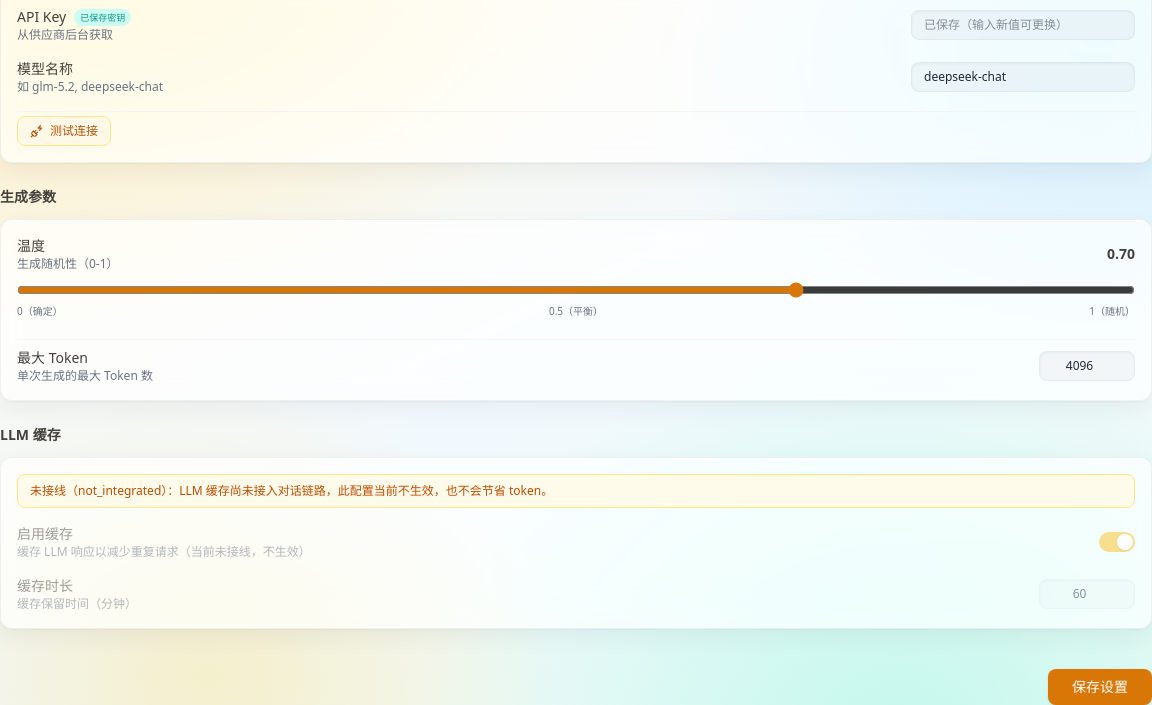
SettingsLLM NEW-13 反馈环 › 已禁用供应商保存被拦截（⑤）
(page scrolled)
Click the button "保存设置" at point(1100, 687), box [1048,669,1151,704]
(page scrolled)
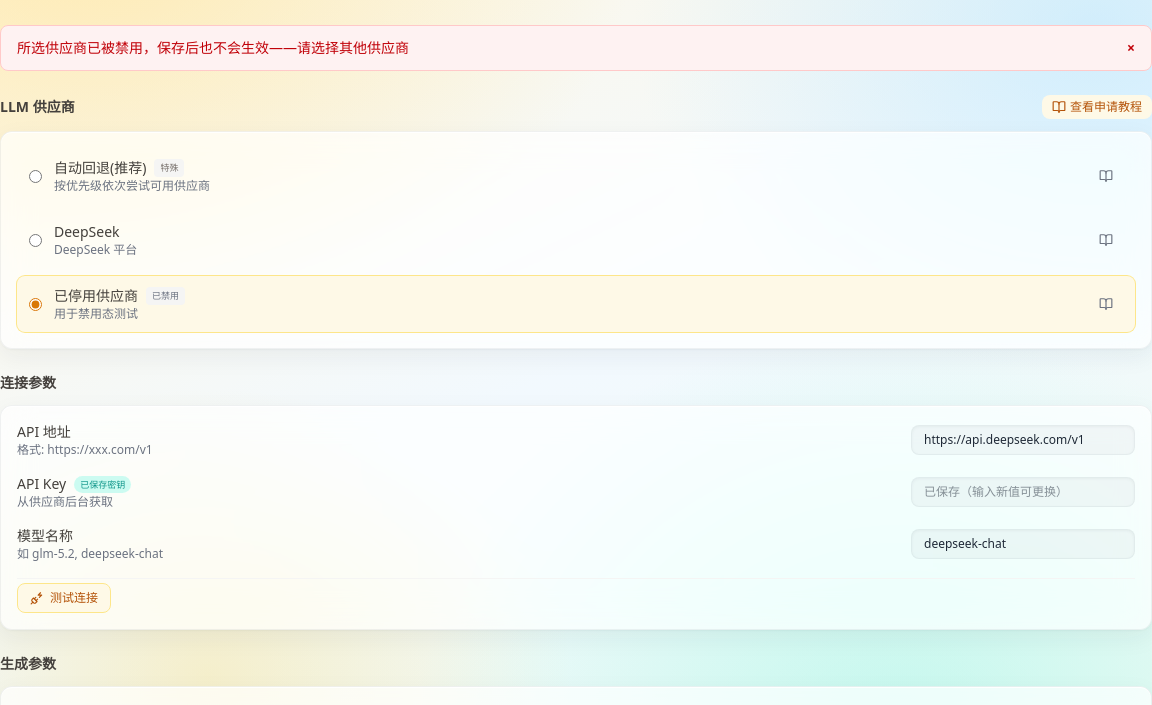
Now the text "所选供应商已被禁用，保存后也不会生效——请选择其他供应商 ×" is shown, box [0,25,1151,71]
